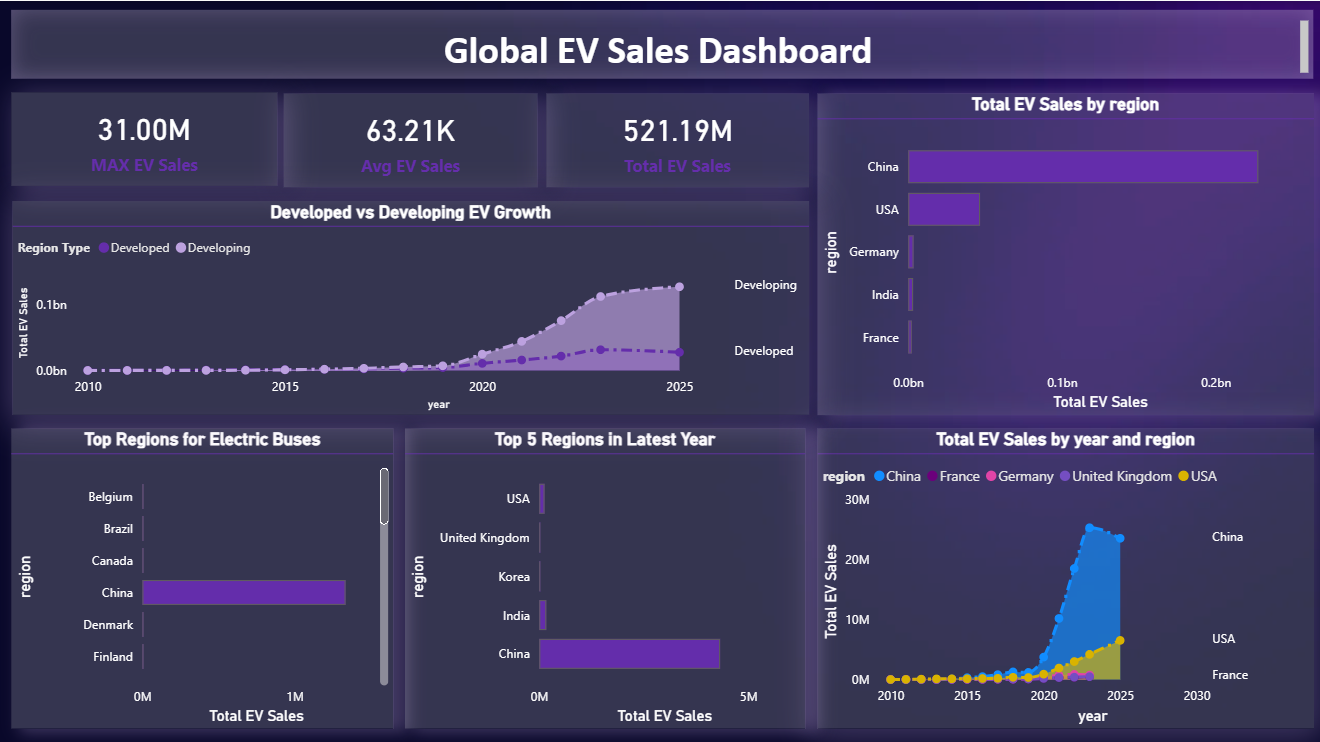

This screenshot's page, from the dashboard's own definition file:
{"tool":"powerbi","page":{"name":"Overview","canvas":[1280,720],"ordinal":0},"visuals":[{"type":"card","fields":{"Values":["IEA Global EV Data 2024.Total EV Sales"]},"box":[527.2,89.3,253.4,90.5],"z":0},{"type":"card","fields":{"Values":["IEA Global EV Data 2024.Avg EV Sales"]},"box":[273.9,89.3,244.9,90.5],"z":1000},{"type":"card","fields":{"Values":["IEA Global EV Data 2024.MAX EV Sales"]},"box":[10.9,88.1,257,90.5],"z":2000},{"type":"lineChart","fields":{"Category":["IEA Global EV Data 2024.year"],"Y":["IEA Global EV Data 2024.Total EV Sales"],"Series":["IEA Global EV Data 2024.region"]},"box":[789,412.6,479,289.5],"z":3000},{"type":"clusteredBarChart","fields":{"Y":["IEA Global EV Data 2024.Total EV Sales"],"Category":["IEA Global EV Data 2024.region"]},"box":[789,89.3,479,310.1],"z":4000},{"type":"clusteredBarChart","title":"Top Regions for Electric Buses","fields":{"Category":["IEA Global EV Data 2024.region"],"Y":["IEA Global EV Data 2024.Total EV Sales"]},"box":[10.9,412.6,369.2,289.5],"z":5000},{"type":"clusteredBarChart","title":"Top 5 Regions in Latest Year","fields":{"Category":["IEA Global EV Data 2024.region"],"Y":["IEA Global EV Data 2024.Total EV Sales"]},"box":[390.9,412.6,386.1,289.5],"z":6000},{"type":"textbox","box":[10.9,8.4,1257.1,66.4],"z":7000},{"type":"lineChart","title":"Developed vs Developing EV Growth","fields":{"Category":["IEA Global EV Data 2024.year"],"Y":["IEA Global EV Data 2024.Total EV Sales"],"Series":["IEA Global EV Data 2024.Region Type"]},"box":[12.1,193,768.5,206.3],"z":8000}]}

Visuals, with their boxes in screenshot pixels (x1, y1, x2, y2), scaled from the page's 1280x720 canvas onto the 1320x742 screenshot:
card - IEA Global EV Data 2024.Total EV Sales: <region>544, 92, 805, 185</region>
card - IEA Global EV Data 2024.Avg EV Sales: <region>282, 92, 535, 185</region>
card - IEA Global EV Data 2024.MAX EV Sales: <region>11, 91, 276, 184</region>
lineChart - IEA Global EV Data 2024.year x IEA Global EV Data 2024.Total EV Sales: <region>814, 425, 1308, 724</region>
clusteredBarChart - IEA Global EV Data 2024.Total EV Sales x IEA Global EV Data 2024.region: <region>814, 92, 1308, 412</region>
"Top Regions for Electric Buses" clusteredBarChart: <region>11, 425, 392, 724</region>
"Top 5 Regions in Latest Year" clusteredBarChart: <region>403, 425, 801, 724</region>
textbox: <region>11, 9, 1308, 77</region>
"Developed vs Developing EV Growth" lineChart: <region>12, 199, 805, 412</region>
